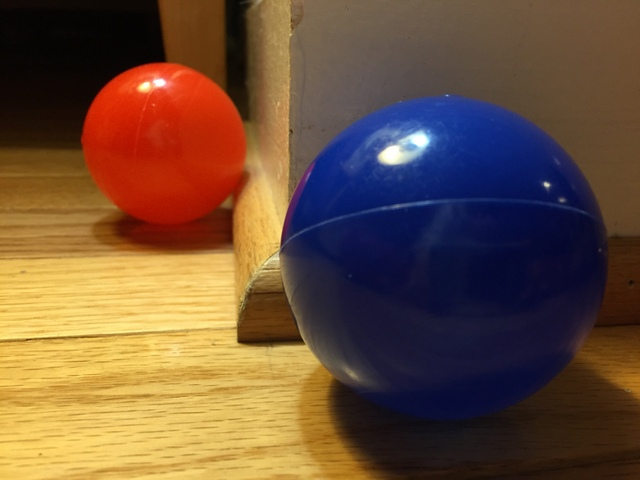Ball: (81, 58, 248, 224)
